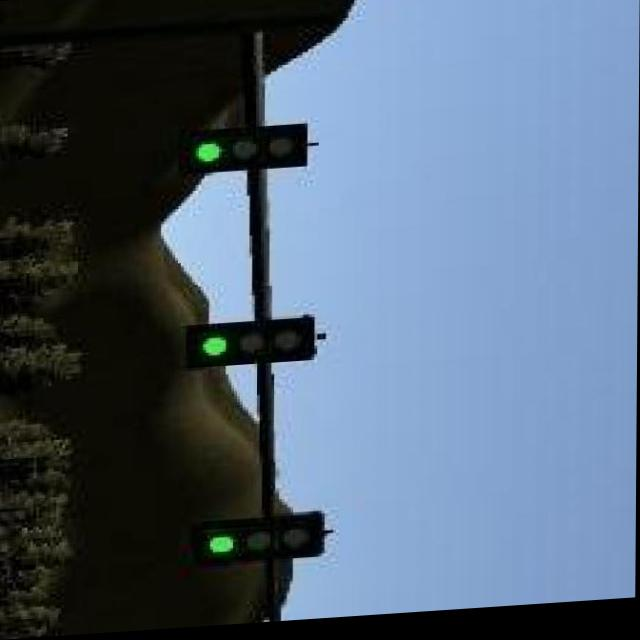green light: (184, 320, 318, 370), (200, 520, 323, 566), (180, 130, 308, 174)
